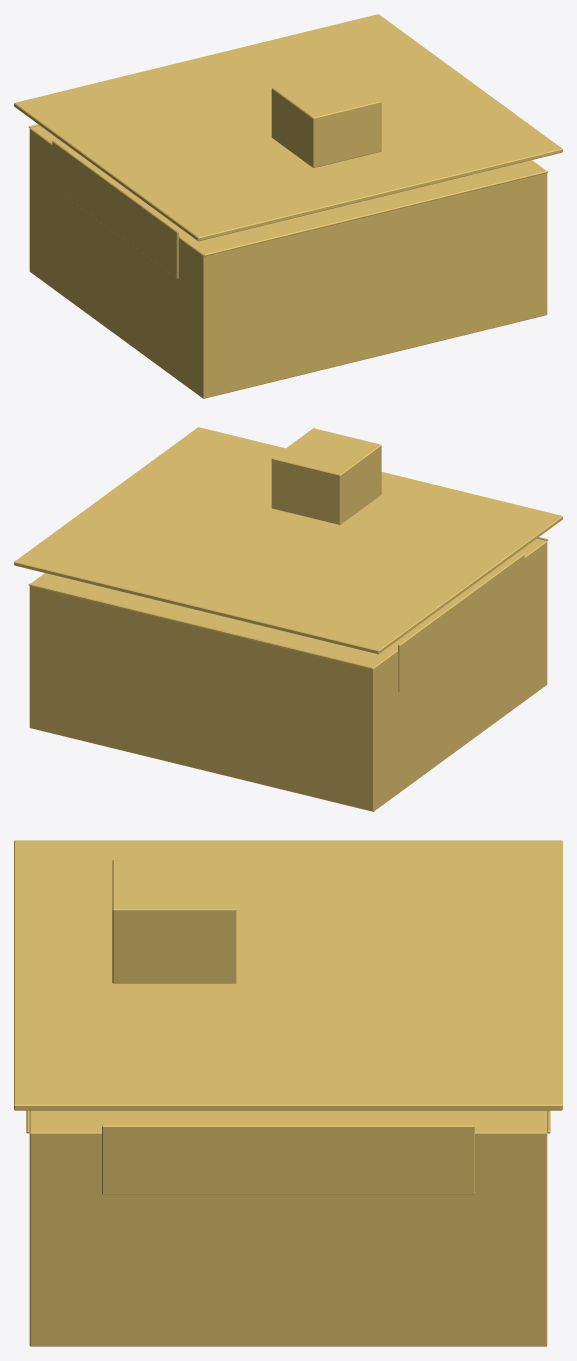
The model's file is SM_ShipBridge_16x8x14.glb.
3 renders of one model, top to bottom at view 1: azimuth 30°, elevation 25°; view 2: azimuth 150°, elevation 25°; view 3: azimuth 270°, elevation 25°, orthographic. The views are drawn at different scales.
Parts seen in each view (by area): view 1: SM_ShipBridge_16x8x14; view 2: SM_ShipBridge_16x8x14; view 3: SM_ShipBridge_16x8x14.
Part boxes in pixels (x1,y1,x2,y2): SM_ShipBridge_16x8x14: [14, 14, 562, 398]; SM_ShipBridge_16x8x14: [14, 427, 562, 811]; SM_ShipBridge_16x8x14: [14, 840, 562, 1346].
Bounding box in the file's own units: 16.96 × 10.08 × 14.84.
